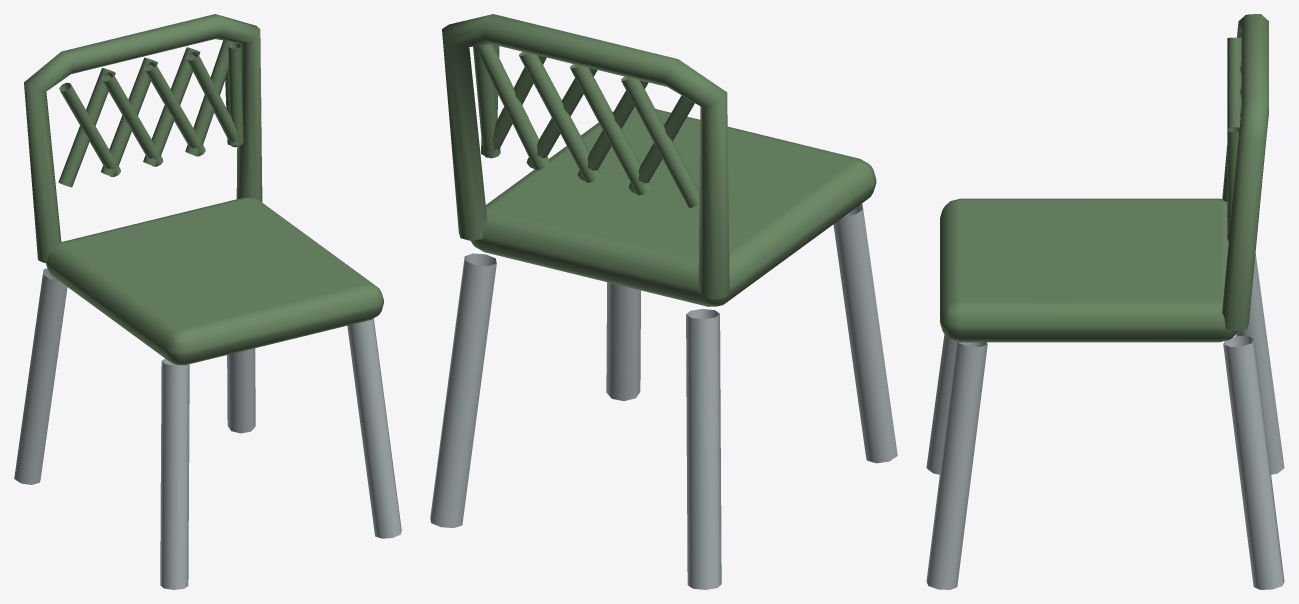
Rendered from prod-1773061941304-2j376.glb.
3 renders of one model, left to right at view 1: azimuth 30°, elevation 25°; view 2: azimuth 150°, elevation 25°; view 3: azimuth 270°, elevation 25°, orthographic. The views are drawn at different scales.
Visible parts, largest first — view 1: Upholstered seat.016, Chair leg.056; view 2: Upholstered seat.016, Chair leg.056; view 3: Upholstered seat.016, Chair leg.056.
Part boxes in pixels (box(x1,y1,x2,y2)): Upholstered seat.016: box(24, 14, 383, 365); Chair leg.056: box(14, 268, 401, 589); Upholstered seat.016: box(442, 14, 876, 306); Chair leg.056: box(430, 203, 897, 589); Upholstered seat.016: box(940, 14, 1268, 342); Chair leg.056: box(926, 253, 1284, 589).
Size of the model in its own units: 0.47 by 0.8 by 0.55.
